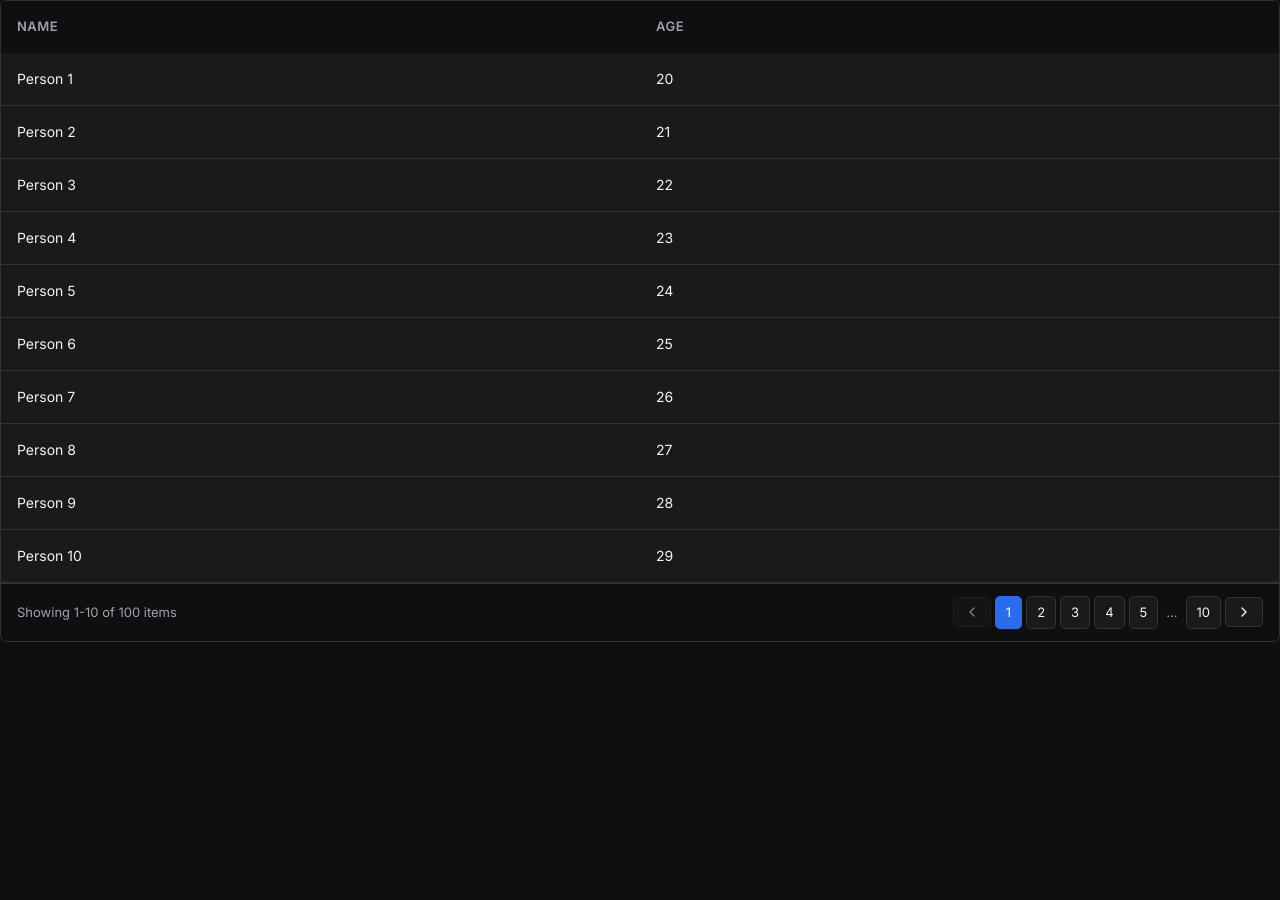
Test: DataTable › navigates to first page from a later page
# Go to page 5 (middle of range)
Click the button named "Page 5".
click(1143, 612)  # box 1128,596 -> 1158,629
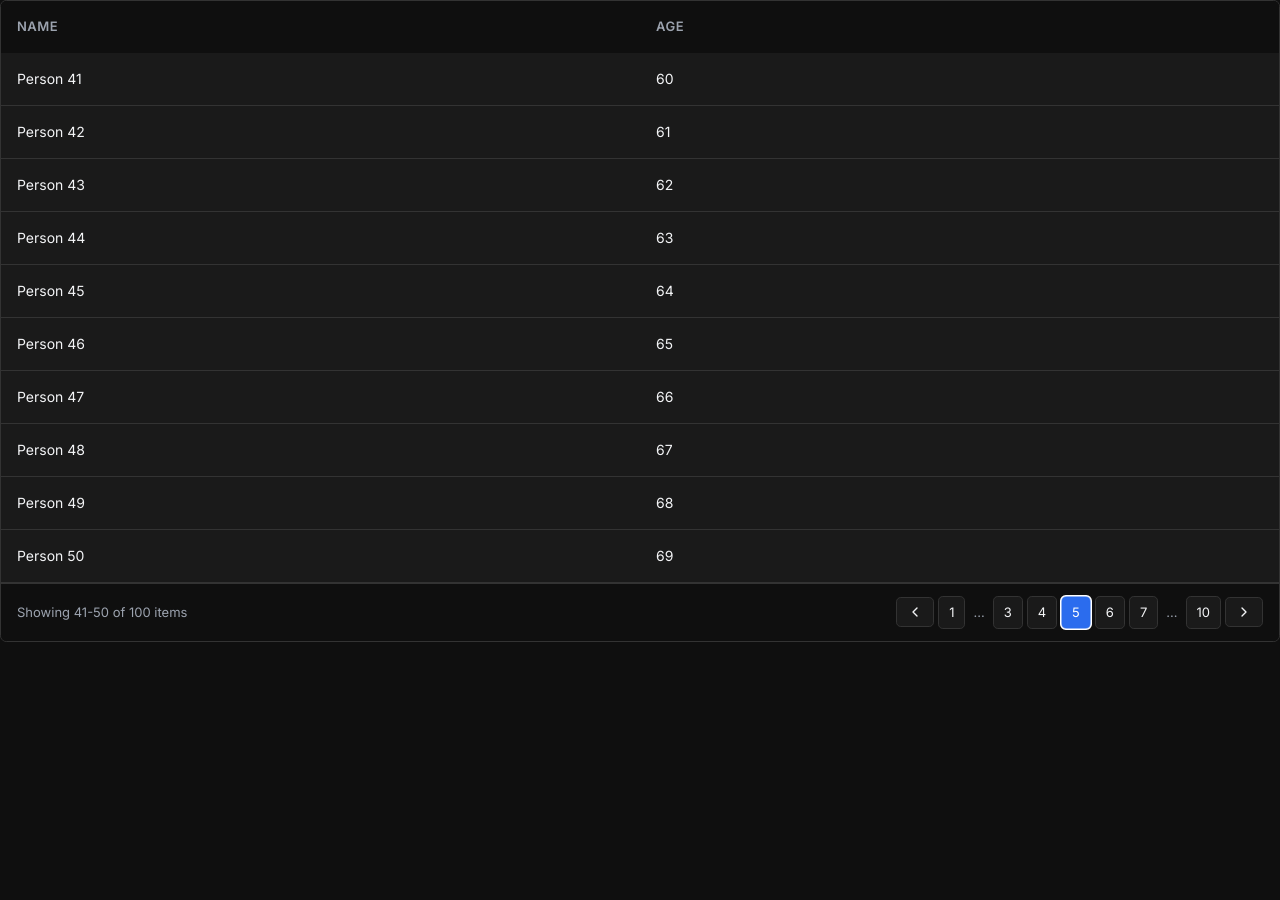
Expected: the text "Person 41" is shown, 1,52 -> 640,105
# Click first page button
Click the button named "First page".
click(952, 612)  # box 938,596 -> 965,629
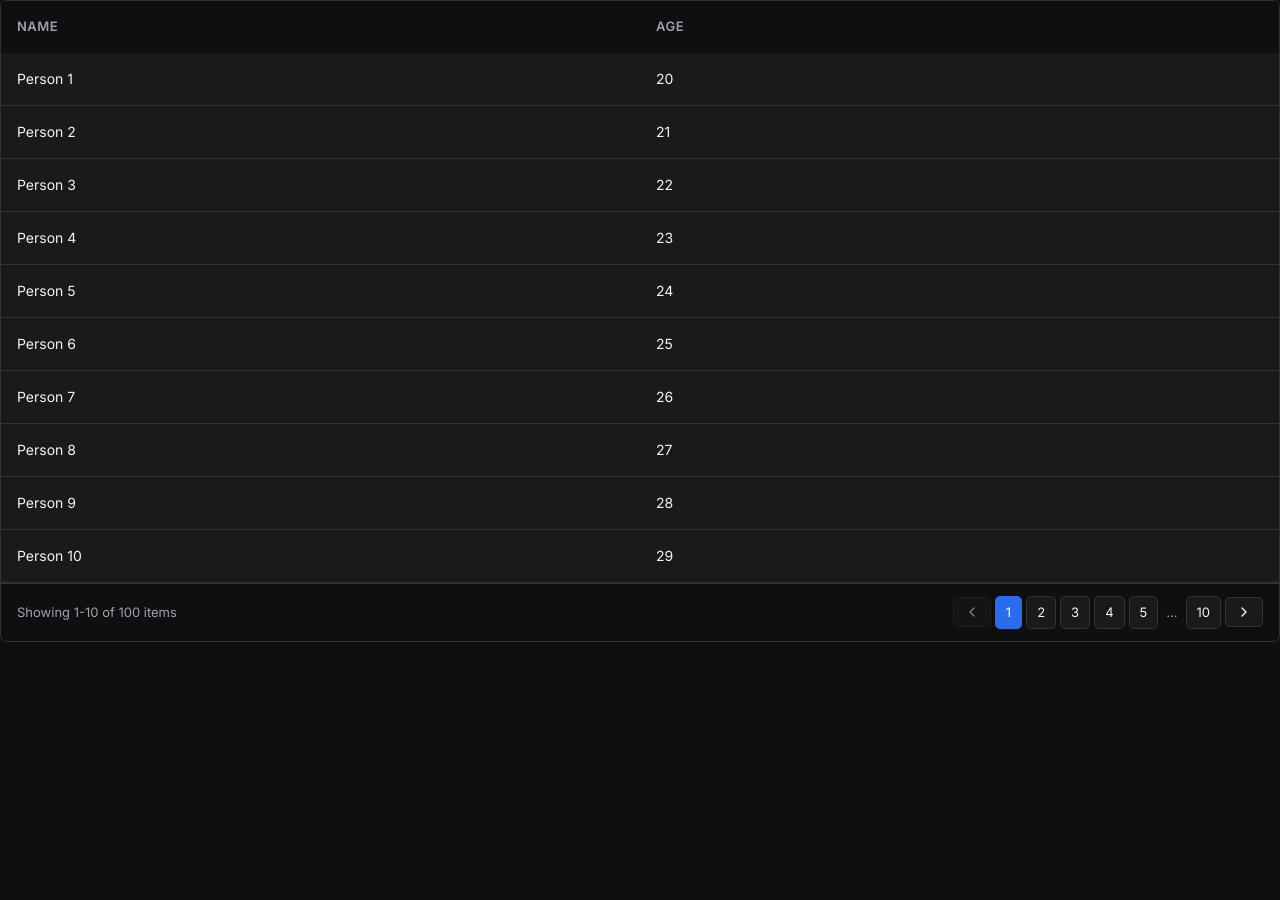
Expected: the text "Person 1" is shown, 1,52 -> 640,105
